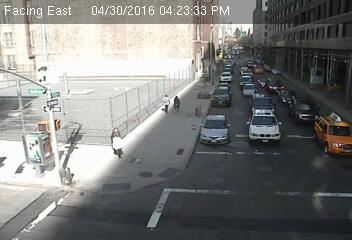neg: (196, 102, 218, 132), (290, 68, 311, 97), (243, 66, 262, 92), (267, 69, 286, 95), (221, 71, 239, 96), (248, 116, 265, 138), (292, 117, 304, 134), (197, 78, 208, 91)
pos: (103, 124, 127, 156), (168, 93, 184, 115), (157, 91, 173, 112)
